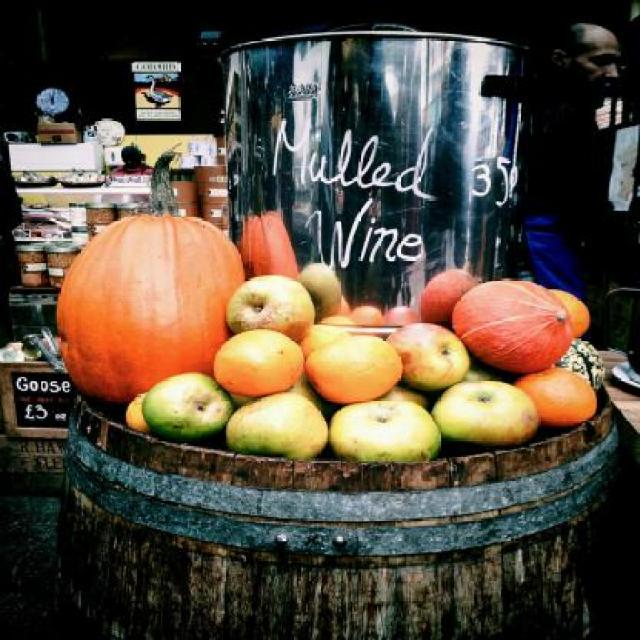Peach: (141, 278, 533, 460)
